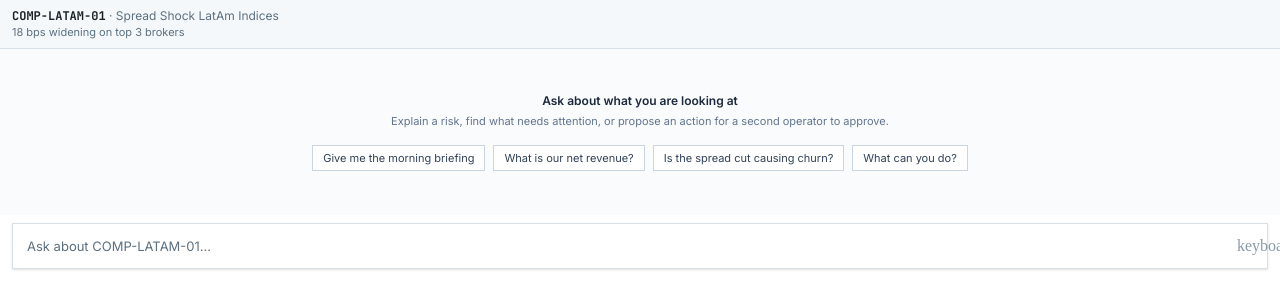
an ADK assistant answer in the chat › shows a clean answer with its figures and no status banner, DEMO chip or audit claim
The width and height of the screenshot is (1280, 306).
Type "What is the discrepancy?" into the text box named "Ask the copilot" at [621, 246], box left=13, top=224, right=1229, bottom=268
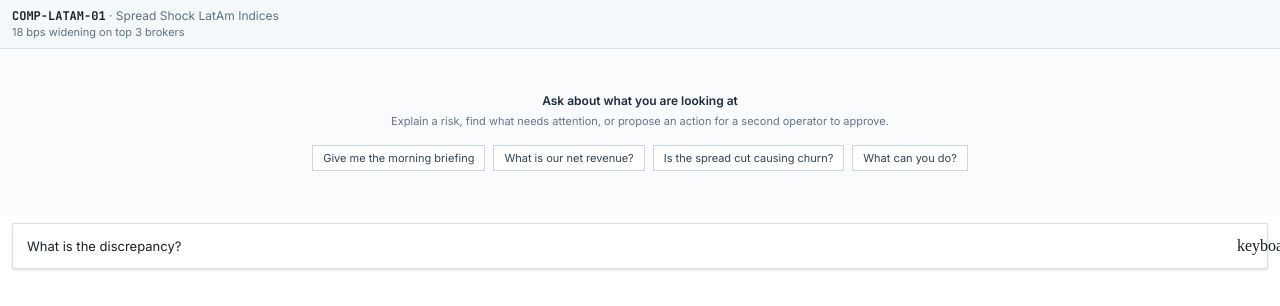
Submit the form named "Ask the copilot", box left=0, top=215, right=1279, bottom=281
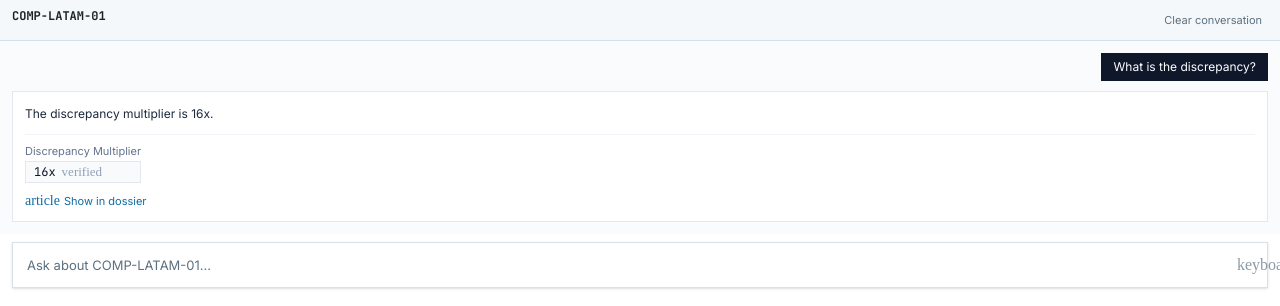
Check: the text "16x" is shown, box left=34, top=164, right=56, bottom=180
